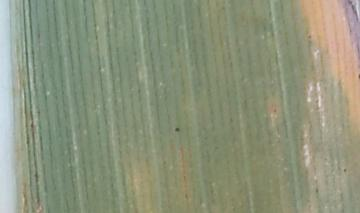tarspot: (28, 109, 35, 129), (173, 125, 182, 134), (341, 166, 348, 175), (304, 33, 313, 40), (314, 185, 320, 194), (357, 72, 360, 80)
